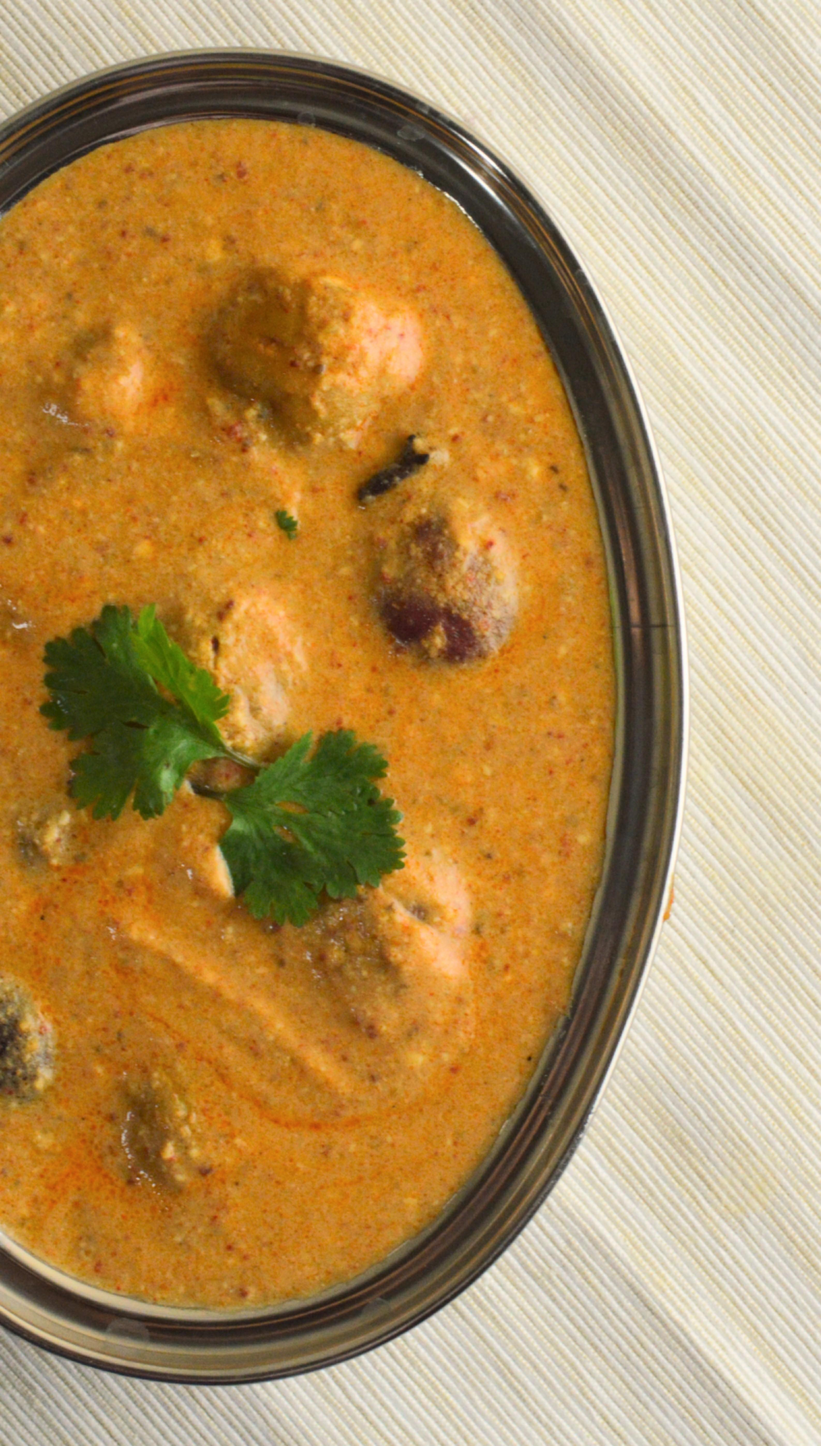DumAloo: (0, 114, 619, 1319)
